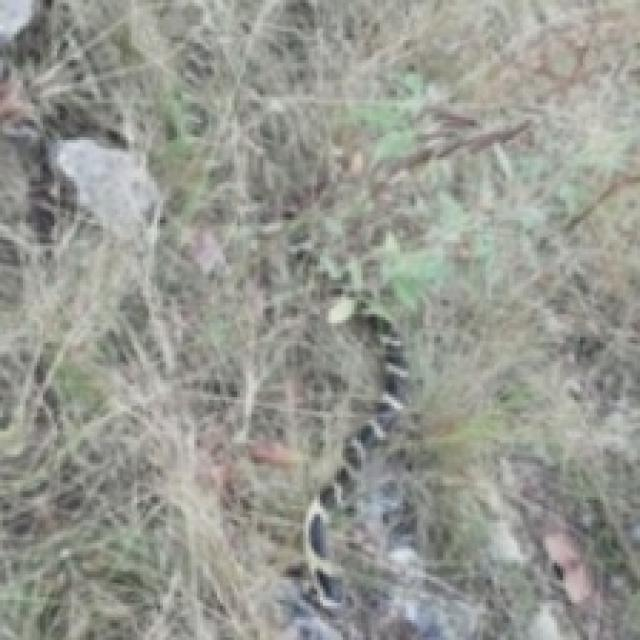king cobra: (302, 294, 410, 609)
